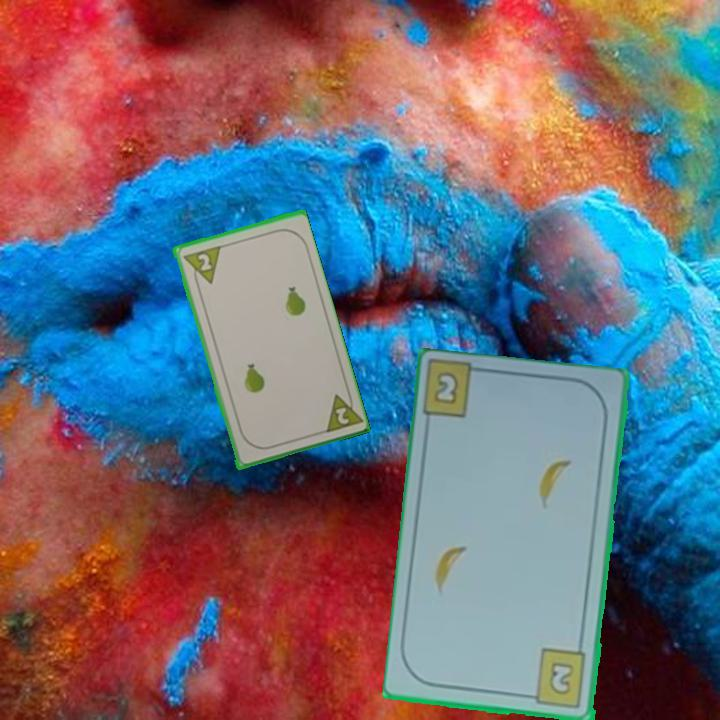2b: (523, 646, 590, 712), (431, 368, 462, 408)
2p: (319, 386, 363, 436), (179, 242, 223, 290)
